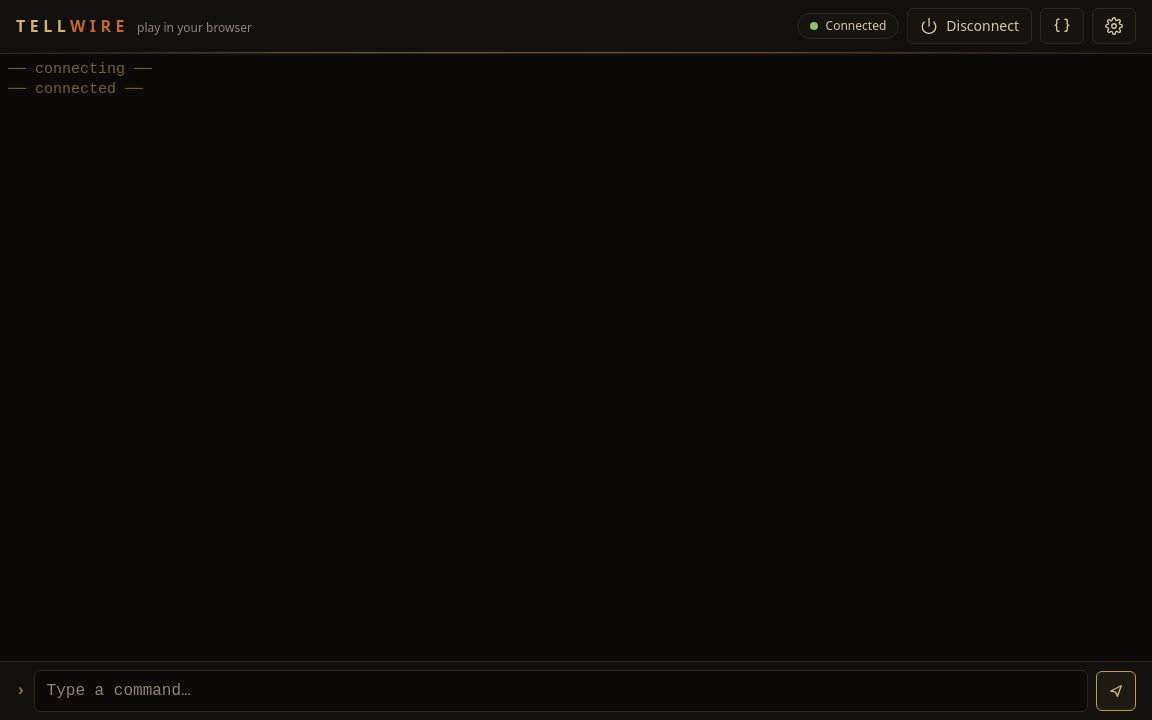
password masking › switches to a password field on server ECHO, hides history, then restores
The width and height of the screenshot is (1152, 720).
Later steps or results of the test are not shown.
Type "look" into the field with test id "command-input" at coordinates (561, 691), box [34,670,1088,712]
Then press Enter
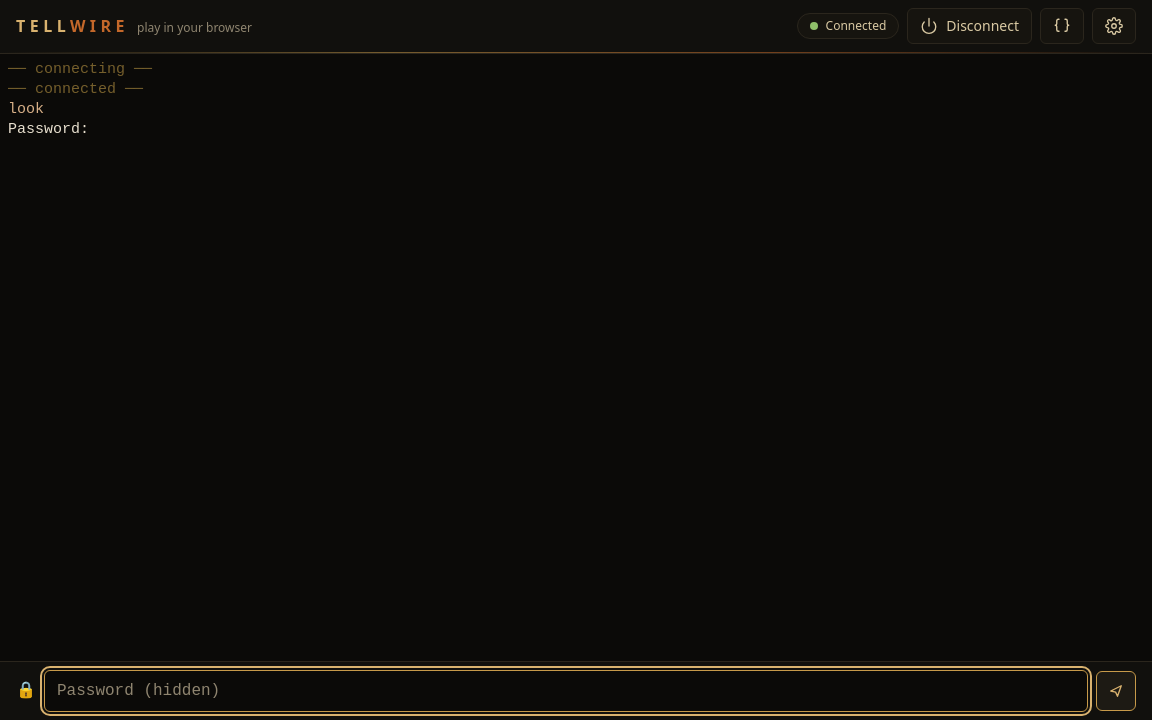
expect the password field with test id "command-input" has attribute data-masked="true": met, box [44,670,1088,712]
